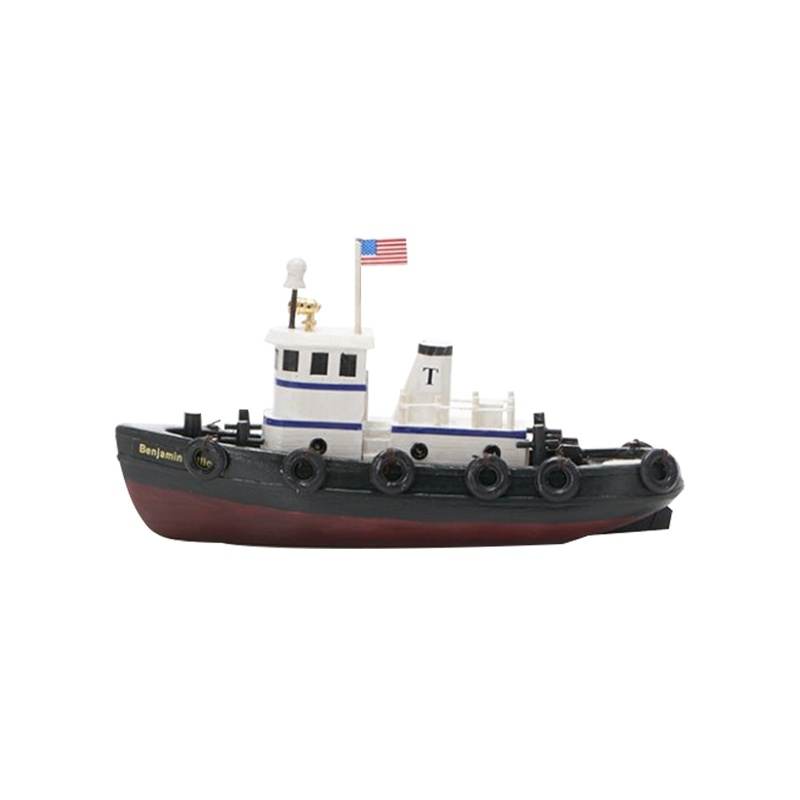otherboat: (105, 230, 684, 556)
